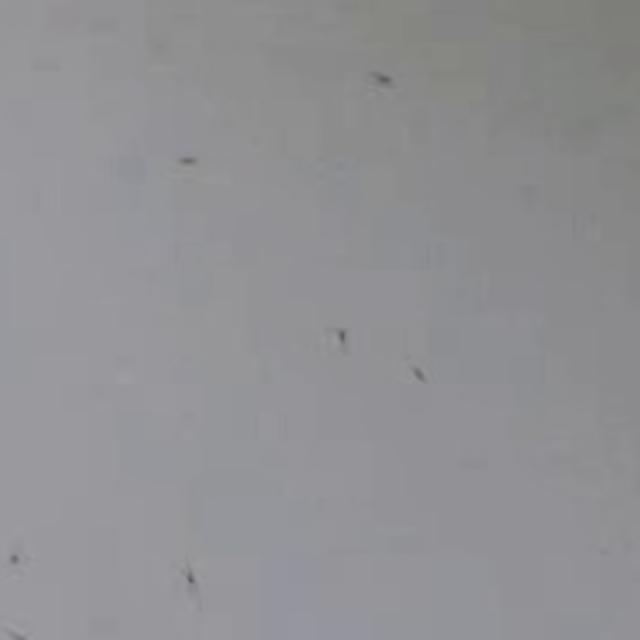shrimp-seed: (355, 59, 409, 98), (175, 556, 207, 608), (158, 144, 212, 173), (400, 354, 437, 396), (330, 312, 354, 370), (0, 541, 25, 585), (2, 619, 31, 640)
